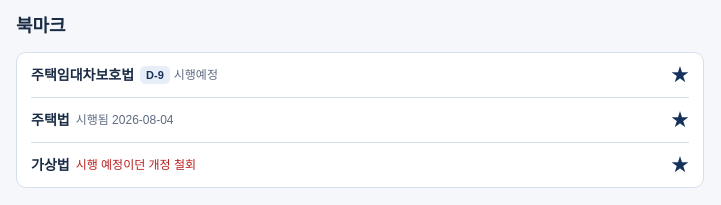
BookmarkListView › 해제 안내는 role=status 로 낭독되고, 되돌리기 버튼이 포커스를 받아 법령명을 설명으로 갖는다
Step 1. Click the button named "주택법 북마크 해제" → click(680, 120), box [671, 111, 689, 129]
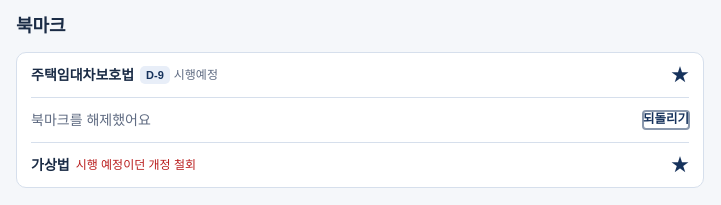
Expected: the message reads "북마크를 해제했어요", [31, 112, 151, 128]
